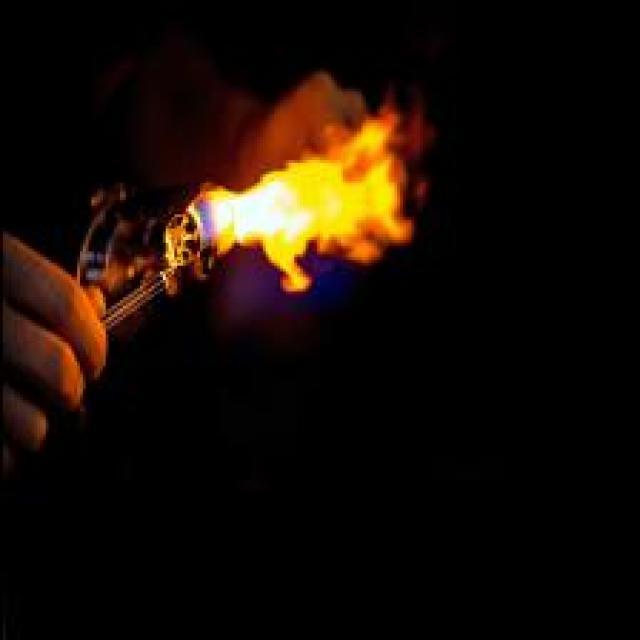Fire: (184, 105, 400, 296)
